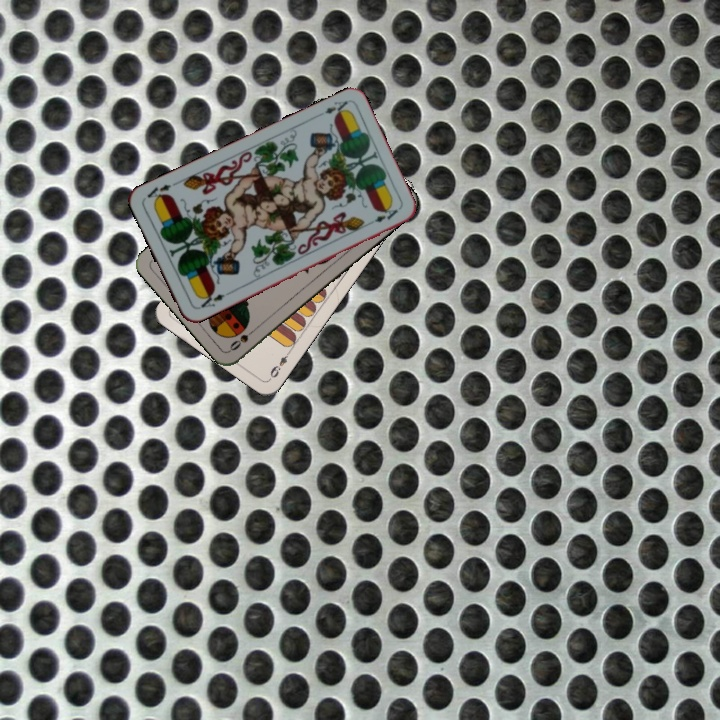E9: (266, 346, 293, 382)
EA: (194, 288, 227, 310), (321, 97, 351, 120)
SO: (225, 323, 260, 353)
